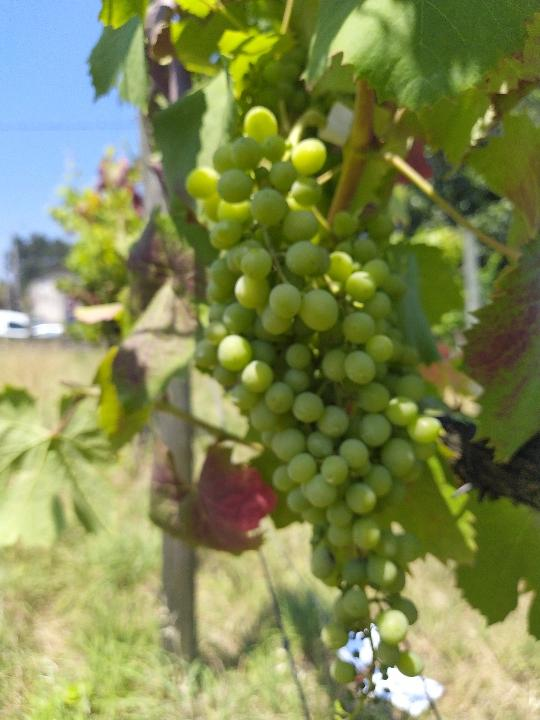grape: (185, 107, 444, 716)
